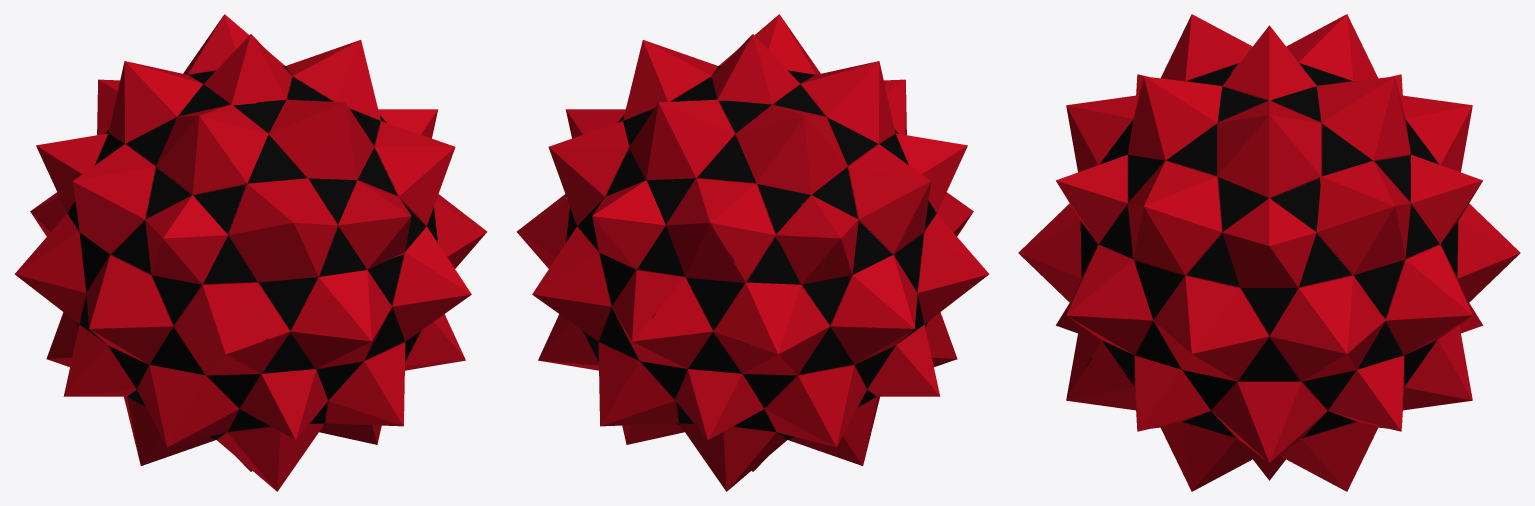
The model's file is spikyball.obj.
3 views of the same model, side by side, from view 1: azimuth 30°, elevation 25°; view 2: azimuth 150°, elevation 25°; view 3: azimuth 270°, elevation 25° (orthographic). The views are drawn at different scales.
Visible parts, largest first — view 1: Sphere; view 2: Sphere; view 3: Sphere.
Boxes of the visible parts, box(x1,y1,x2,y2) form: Sphere: box(14, 14, 487, 491); Sphere: box(516, 14, 989, 491); Sphere: box(1018, 14, 1520, 491).
Size of the model in its own units: 0.4831 by 0.5079 by 0.5079.
